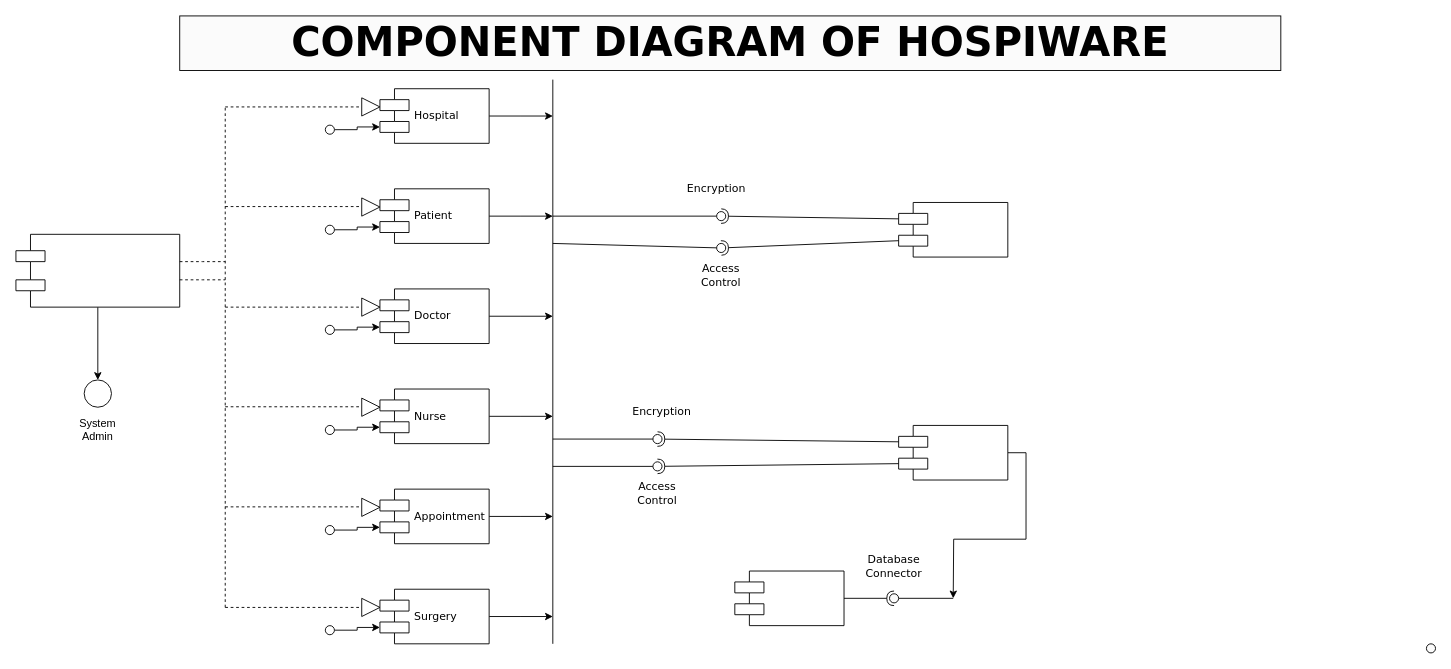
The diagram is 1451 pixels wide and 669 high, and some of its shapes have lost their labels. The centre of each missing label's shape, as x and y in pixels:
Database: the point at 789,598
Hospital Management System: the point at 97,270
Persistancy: the point at 953,452
Security: the point at 953,229
